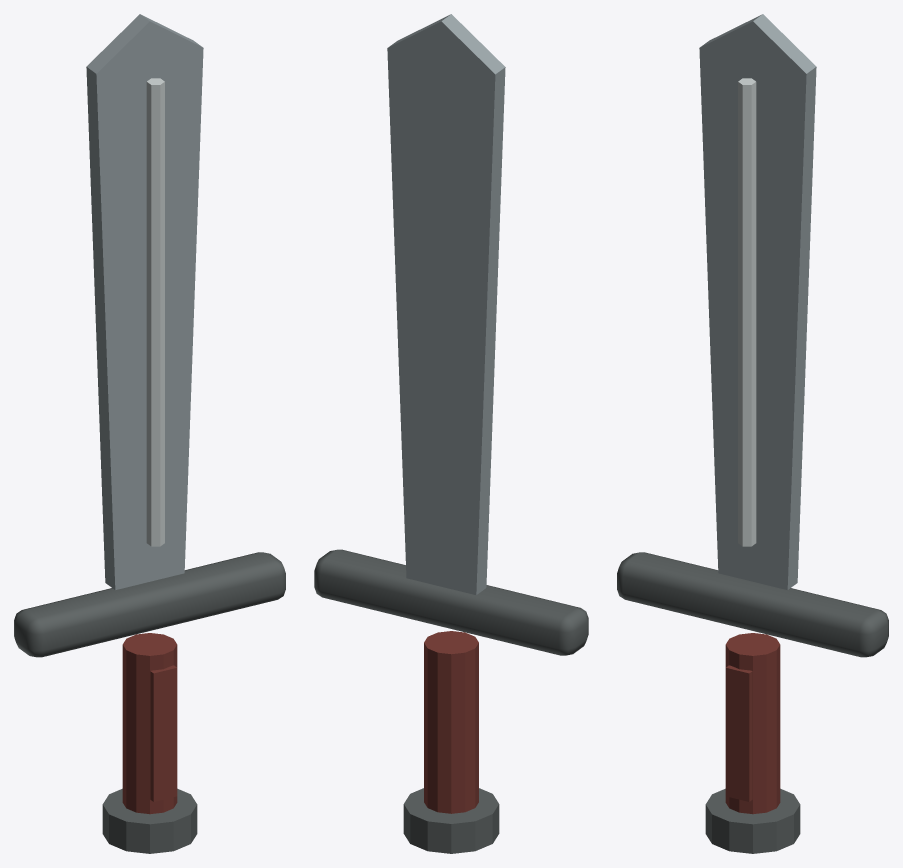
The model's file is gateward_sword.glb.
3 views of the same model, side by side, from view 1: azimuth 30°, elevation 25°; view 2: azimuth 150°, elevation 25°; view 3: azimuth 330°, elevation 25° (orthographic).
Visible parts, largest first — view 1: Gateward blade, Guard, Honed central ridge, Grip, Pommel, Leather grip wrap; view 2: Gateward blade, Guard, Grip, Pommel; view 3: Gateward blade, Guard, Honed central ridge, Grip, Pommel, Leather grip wrap.
Boxes of the visible parts, box(x1,y1,x2,y2) form: Gateward blade: box(86, 14, 203, 589); Guard: box(14, 552, 285, 657); Honed central ridge: box(146, 78, 164, 546); Grip: box(122, 633, 177, 814); Pommel: box(102, 788, 197, 853); Leather grip wrap: box(150, 665, 177, 801); Gateward blade: box(387, 14, 505, 595); Guard: box(314, 549, 588, 655); Grip: box(424, 631, 478, 813); Pommel: box(403, 788, 499, 853); Gateward blade: box(699, 14, 816, 589); Guard: box(617, 552, 888, 657); Honed central ridge: box(738, 78, 756, 546); Grip: box(725, 633, 780, 814); Pommel: box(705, 788, 800, 853); Leather grip wrap: box(725, 665, 752, 801).
Size of the model in its own units: 0.82 by 2.47 by 0.26.
